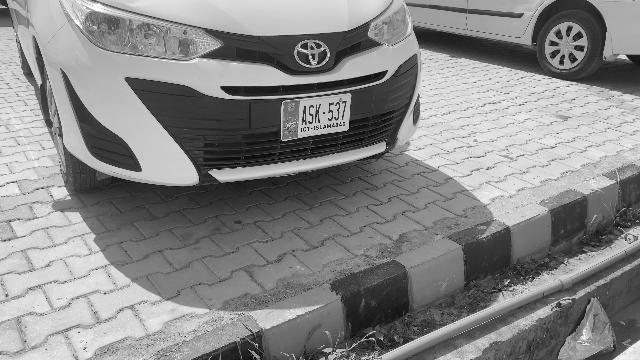Number: (300, 99, 349, 126)
